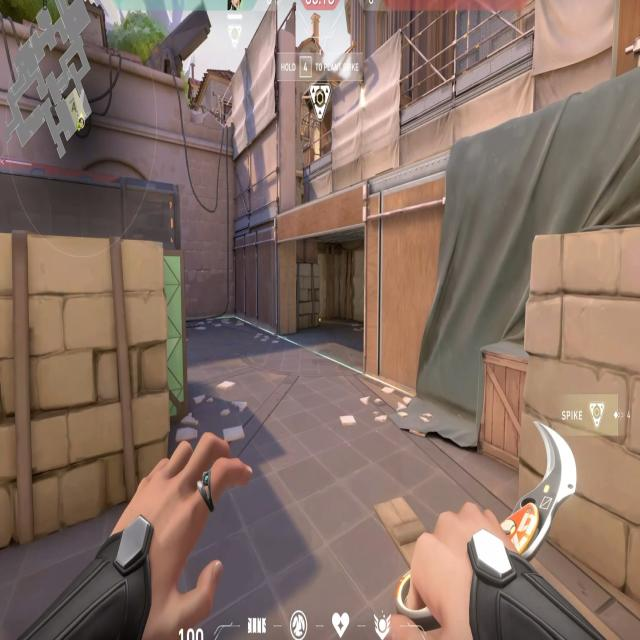A_Heaven_Wall: (224, 19, 316, 222)
A_Hell: (268, 189, 386, 385)
